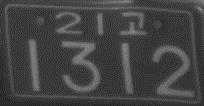1: (113, 42, 145, 95), (20, 38, 50, 91), (90, 11, 112, 35)
2: (152, 44, 195, 98), (55, 10, 83, 36)
3: (60, 39, 101, 93)
고: (119, 10, 147, 36)
